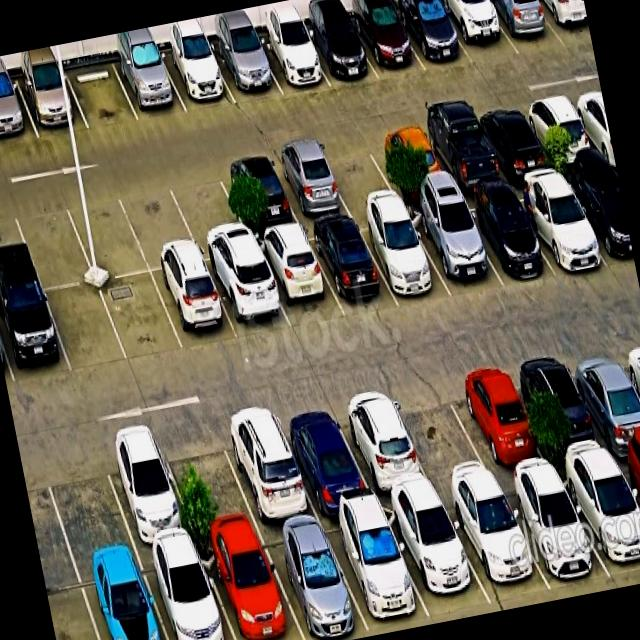car: (321, 508, 432, 636), (258, 521, 370, 640), (441, 484, 551, 604), (499, 473, 611, 590), (382, 498, 492, 617), (215, 403, 318, 529), (446, 361, 553, 482), (330, 387, 437, 503), (513, 349, 614, 469), (97, 429, 196, 551), (273, 398, 375, 516), (197, 532, 304, 640), (557, 458, 640, 584), (509, 174, 609, 273), (406, 201, 504, 297), (456, 190, 553, 286), (139, 543, 235, 640), (253, 229, 344, 331), (305, 219, 398, 317), (563, 341, 640, 457), (355, 210, 451, 303), (76, 554, 167, 640), (560, 165, 635, 267), (152, 263, 238, 351), (205, 254, 291, 340), (0, 287, 71, 385), (418, 115, 506, 194), (216, 155, 301, 236), (269, 146, 351, 223), (368, 126, 452, 199), (472, 103, 553, 178), (520, 94, 600, 167), (348, 6, 425, 80), (393, 0, 473, 71), (436, 0, 519, 65), (301, 18, 378, 86), (112, 53, 187, 121), (159, 46, 236, 112), (16, 69, 88, 138), (254, 30, 330, 94), (210, 38, 282, 103), (484, 0, 565, 54), (0, 78, 39, 145), (536, 0, 592, 45)
free: (385, 372, 497, 495), (156, 420, 259, 541), (38, 439, 135, 565), (166, 165, 254, 262), (62, 186, 150, 281), (11, 195, 95, 289), (118, 178, 202, 271), (99, 272, 184, 363), (45, 283, 128, 374), (316, 137, 399, 212), (65, 60, 139, 129)
